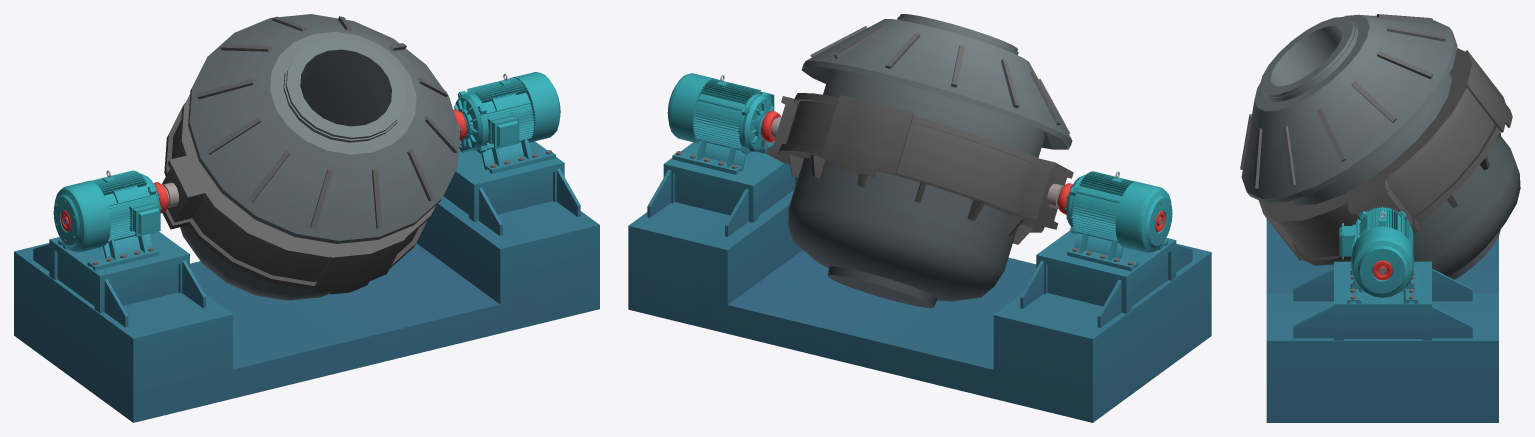
Rendered from zhuan_lu.glb.
3 renders of one model, left to right at view 1: azimuth 30°, elevation 25°; view 2: azimuth 150°, elevation 25°; view 3: azimuth 270°, elevation 25°, orthographic. The views are drawn at different scales.
Parts seen in each view (by area): view 1: LuShen, ZhuanLu; view 2: LuShen, ZhuanLu; view 3: ZhuanLu, LuShen.
Part boxes in pixels (x1=…): LuShen: x1=14, y1=72, x2=599, y2=422; ZhuanLu: x1=162, y1=14, x2=461, y2=300; LuShen: x1=628, y1=73, x2=1211, y2=422; ZhuanLu: x1=766, y1=14, x2=1073, y2=307; ZhuanLu: x1=1240, y1=14, x2=1520, y2=279; LuShen: x1=1266, y1=15, x2=1498, y2=422.
Size of the model in its own units: 14.9 by 8.63 by 7.66.
Materials: 1 (1 with a texture image).
